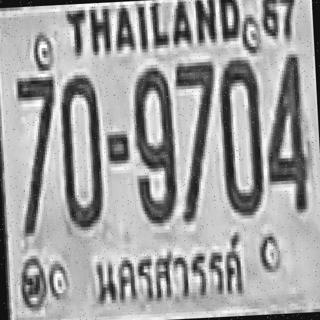N00: (216, 56, 264, 213), (58, 71, 103, 228)
N04: (262, 50, 309, 211)
N07: (173, 58, 220, 219), (15, 74, 61, 234), (172, 58, 218, 164), (15, 73, 58, 185)
N09: (131, 64, 177, 221)
P31: (82, 226, 256, 320)
